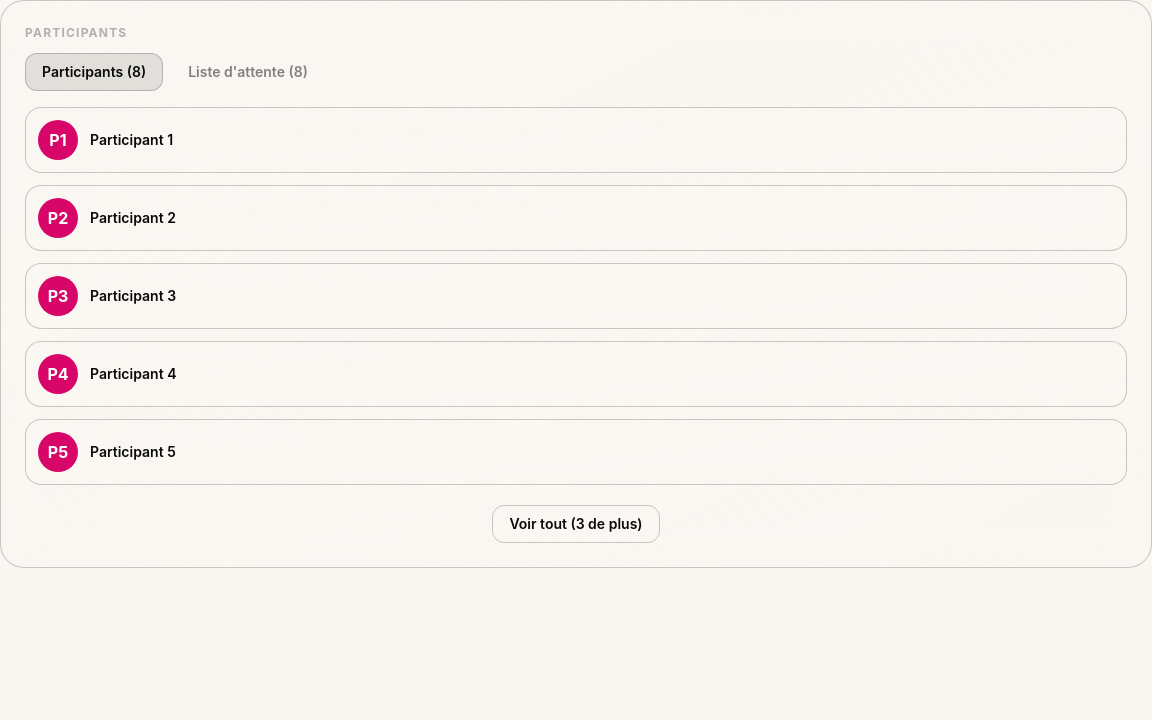
Test: AttendeesList › authenticated view › keeps a separate collapsed/expanded state per tab
The image size is (1152, 720).
// Expand ATTENDING.
Click the button "Voir tout (3 de plus)" at point(576, 524), box top-left (492, 505), bottom-right (660, 543)
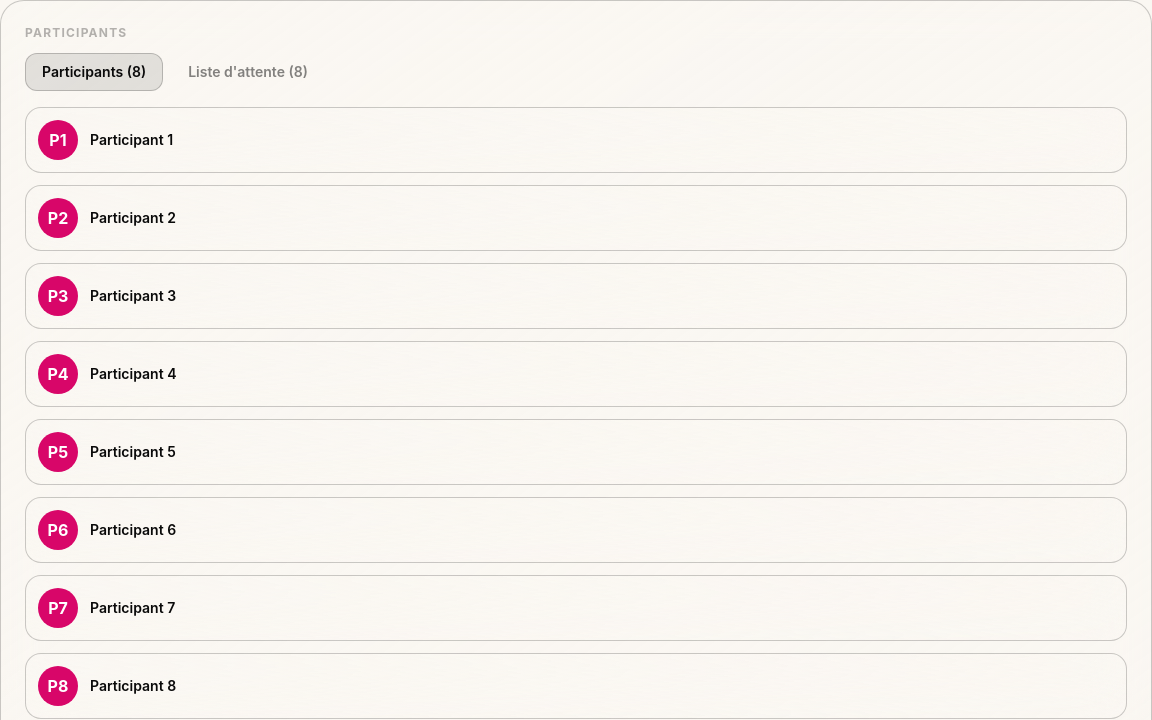
Check: the text "Participant 6" is shown, box top-left (90, 521), bottom-right (176, 538)
// Switch to WAITLISTED — should be COLLAPSED (« Voir tout » re-appears).
Click the tab "Liste d'attente (8)" at point(248, 72), box top-left (171, 53), bottom-right (325, 91)
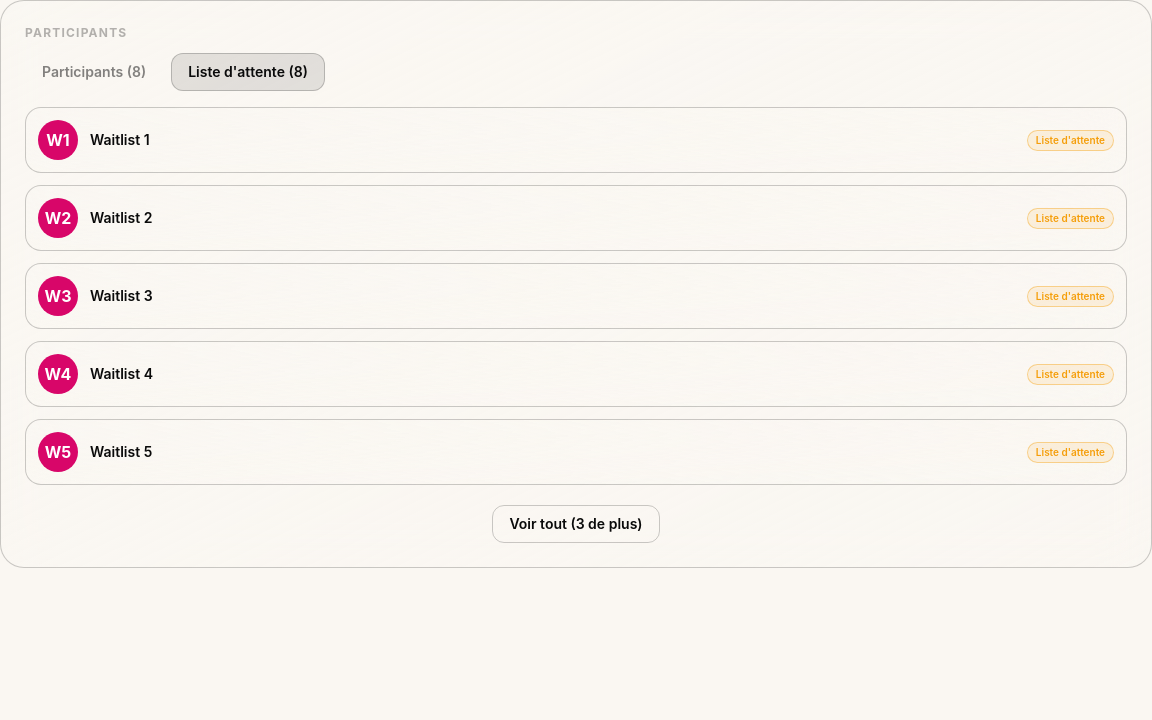
Check: the button "Voir tout (3 de plus)" is shown, box top-left (492, 505), bottom-right (660, 543)
Check: the text "Waitlist 5" is shown, box top-left (90, 443), bottom-right (152, 460)
